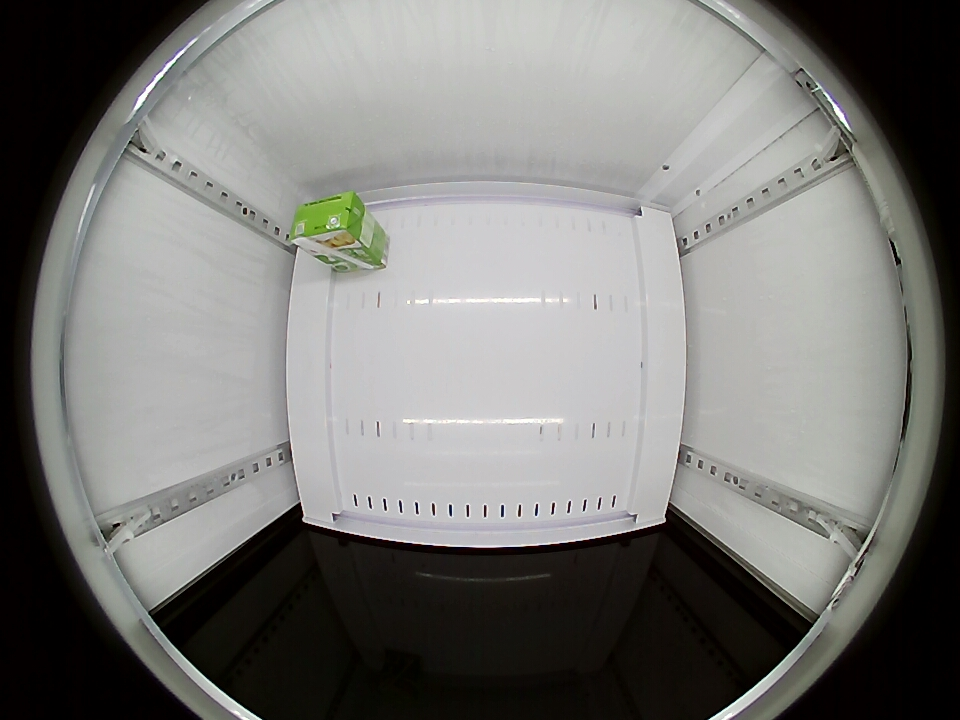mengniuzaocan: (290, 192, 366, 252)
